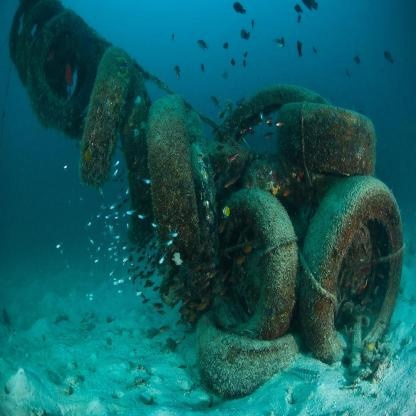tire: (298, 174, 406, 370), (144, 90, 226, 290), (206, 187, 312, 340), (17, 3, 98, 124), (111, 61, 166, 230), (278, 99, 386, 184), (190, 316, 306, 392), (77, 45, 130, 186), (219, 78, 324, 139)
